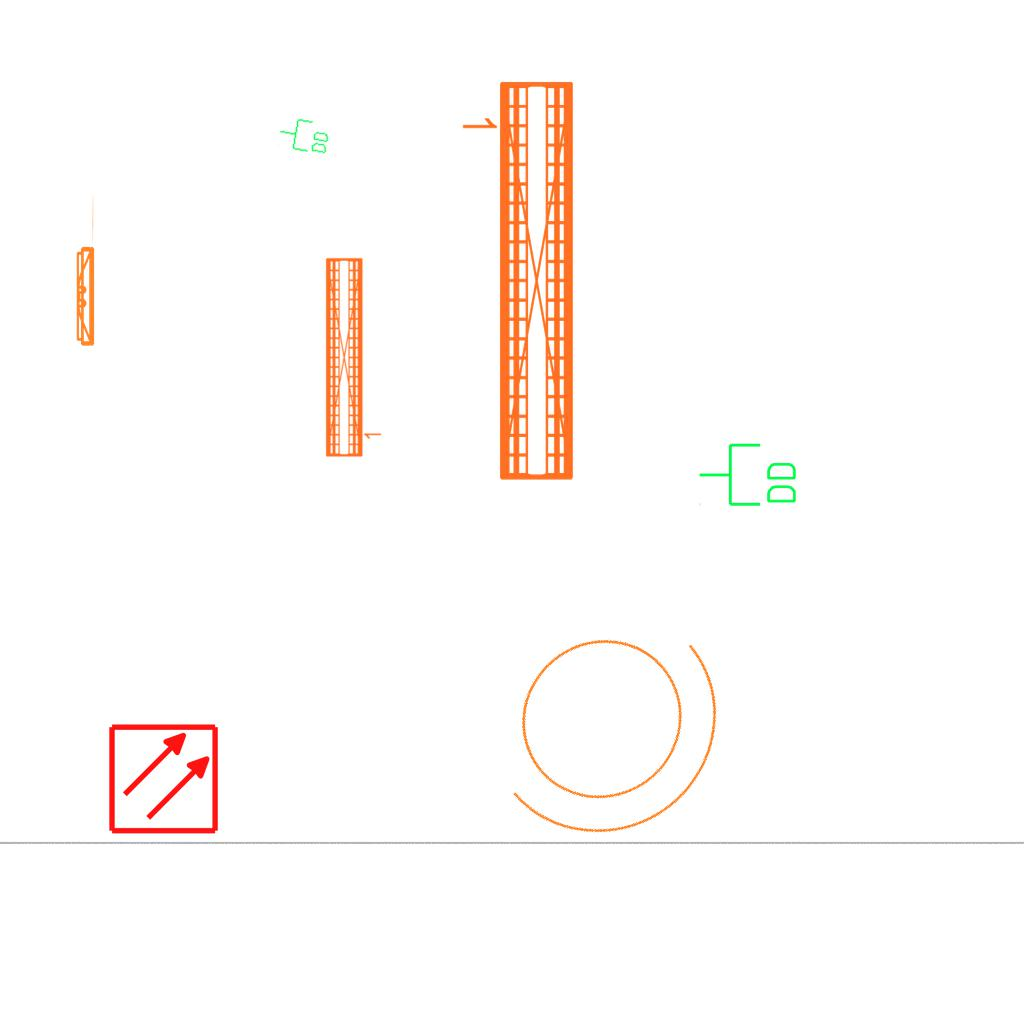Buero_Pendelleuchten_LED: (453, 75, 583, 488), (321, 254, 386, 460)
Datenanschluss_zweifach: (697, 441, 800, 510), (276, 114, 333, 158)
RMO_Rauchmelder_optischer: (107, 722, 220, 835)
Scheinwerfer_fuer_Alarmbeleuchtung: (439, 551, 787, 894)
Sicherheitsleuchte_Wandeinbau: (72, 192, 97, 351)
